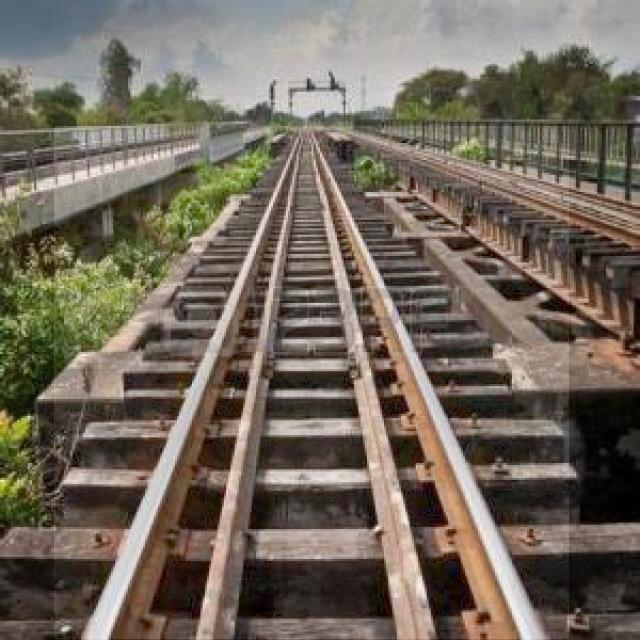rail: (56, 127, 570, 640)
